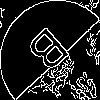B: (25, 25, 78, 81)
